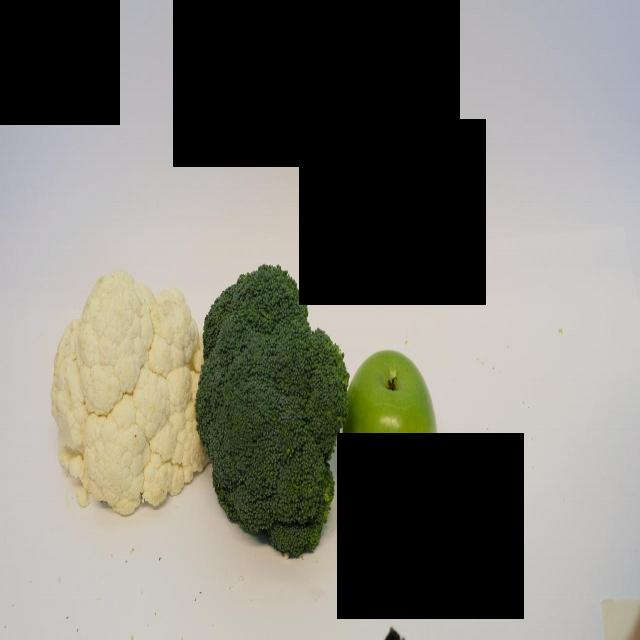apple: (341, 348, 438, 520)
broccoli: (195, 262, 348, 560)
cauliflower: (49, 267, 216, 517)
